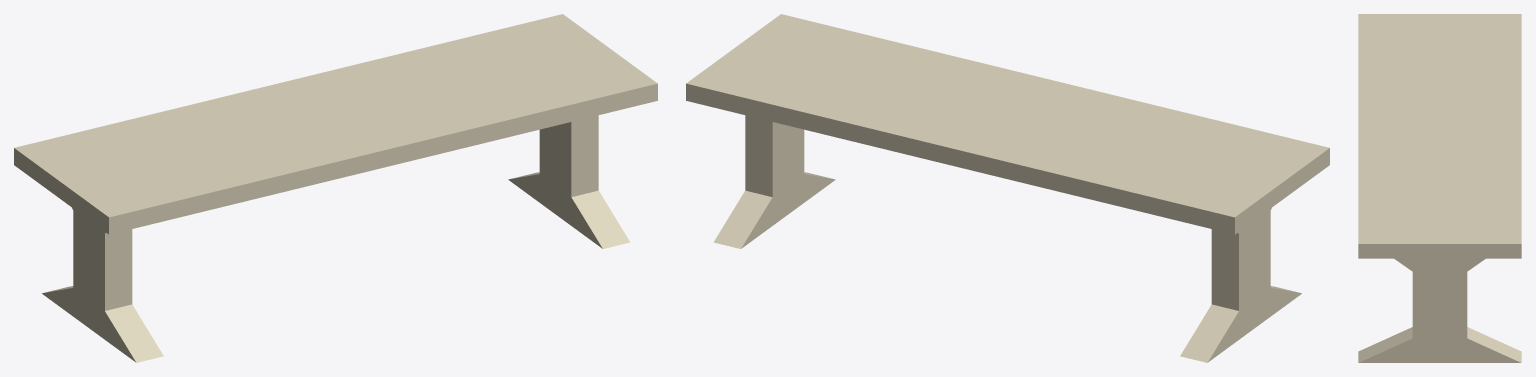
File: roman_bench_stone.fbx
3 views of the same model, side by side, from view 1: azimuth 30°, elevation 25°; view 2: azimuth 150°, elevation 25°; view 3: azimuth 270°, elevation 25° (orthographic). The views are drawn at different scales.
Parts seen in each view (by area): view 1: Cube.066; view 2: Cube.066; view 3: Cube.066.
Part boxes in pixels (x1,y1,x2,y2): Cube.066: [14, 14, 657, 362]; Cube.066: [686, 14, 1329, 362]; Cube.066: [1358, 14, 1521, 362].
Size of the model in its own units: 2 by 0.53 by 0.6.
